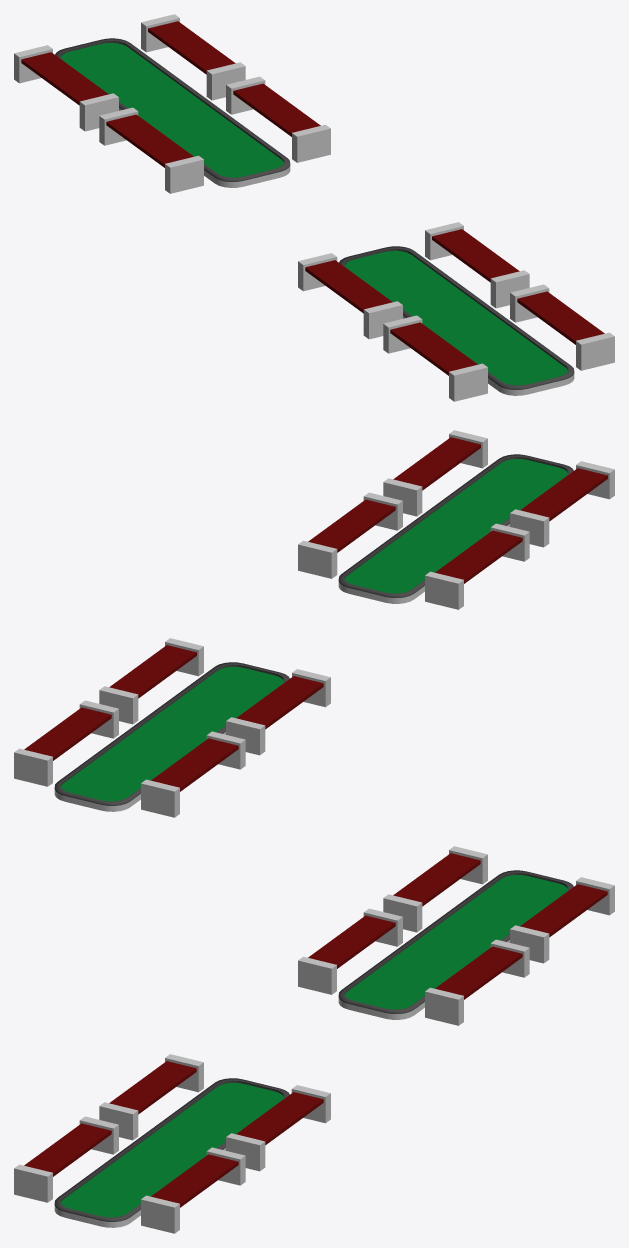
Rendered from Park-03.fbx.
The picture shows the model from 3 angles, top to bottom: view 1: azimuth 30°, elevation 25°; view 2: azimuth 150°, elevation 25°; view 3: azimuth 330°, elevation 25°; orthographic projection.
Parts seen in each view (by area): view 1: Park-03; view 2: Park-03; view 3: Park-03.
Boxes of the visible parts, x1,y1,x2,y2 form: Park-03: (14, 14, 614, 401); Park-03: (14, 430, 614, 817); Park-03: (14, 846, 614, 1233).
Size of what is drawn, in the model's own units: 3.27 by 0.5085 by 16.28.
